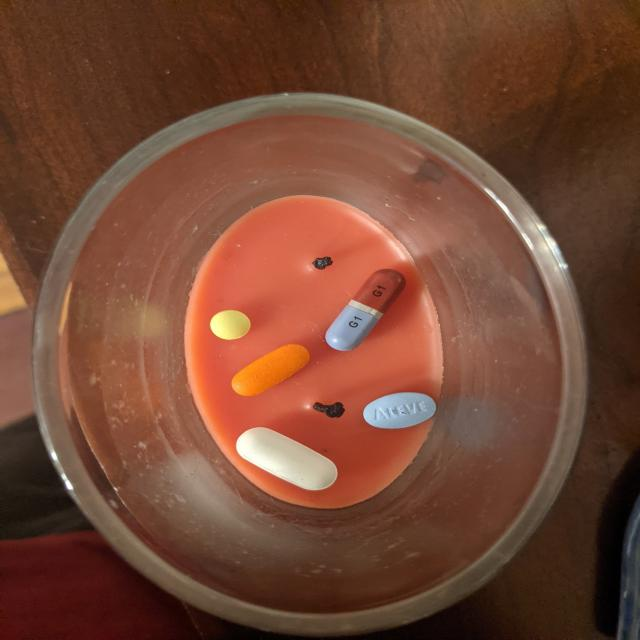non-organic waste: (324, 268, 407, 352), (235, 426, 339, 491), (231, 342, 311, 397), (362, 391, 438, 430), (208, 309, 252, 341)
